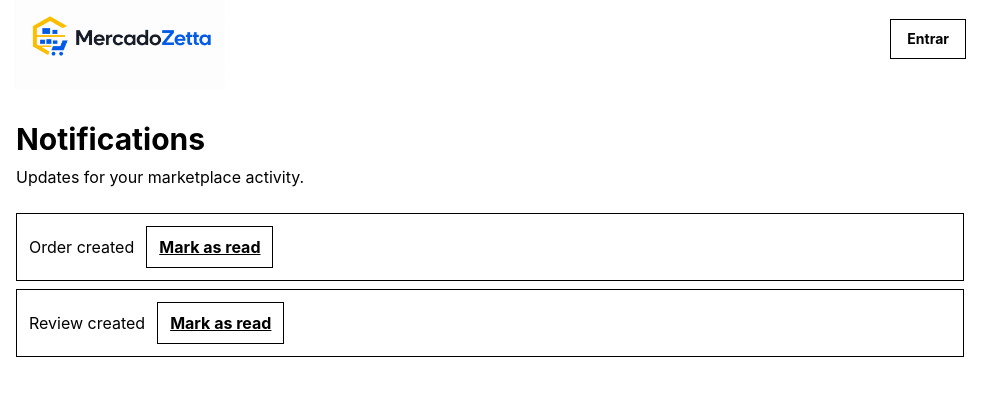
Test case: Notifications › loads notifications and updates read state
Check: the list item "Order created" is shown, box left=29, top=237, right=134, bottom=257
Click the button "Mark as read" next to "Order created": (210, 247) left=146, top=226, right=274, bottom=268
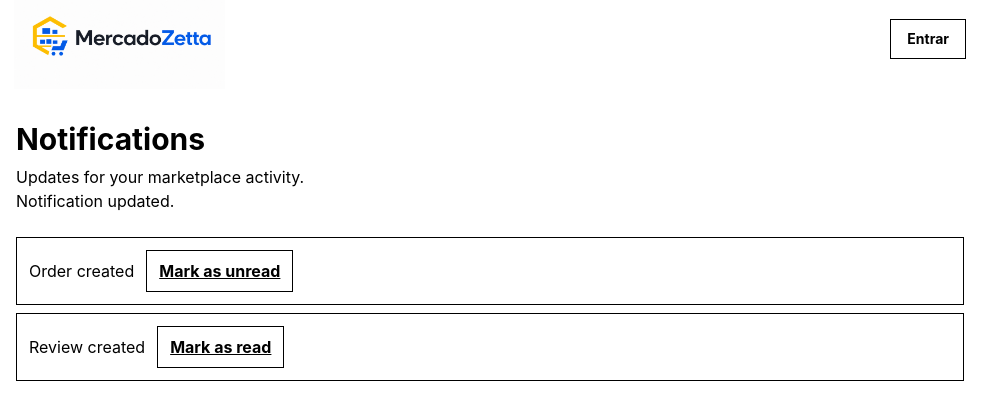
Check: the list item "Review created" is shown, box left=29, top=337, right=145, bottom=357
Check: the button "Mark as unread" is shown, box left=146, top=250, right=293, bottom=292
Check: the message reads "Notification updated.", box left=16, top=191, right=174, bottom=211
